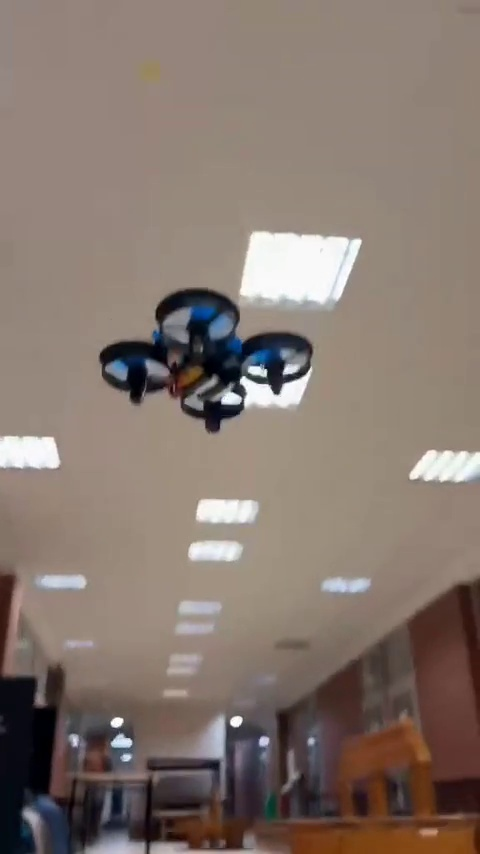drone: (95, 285, 316, 429)
